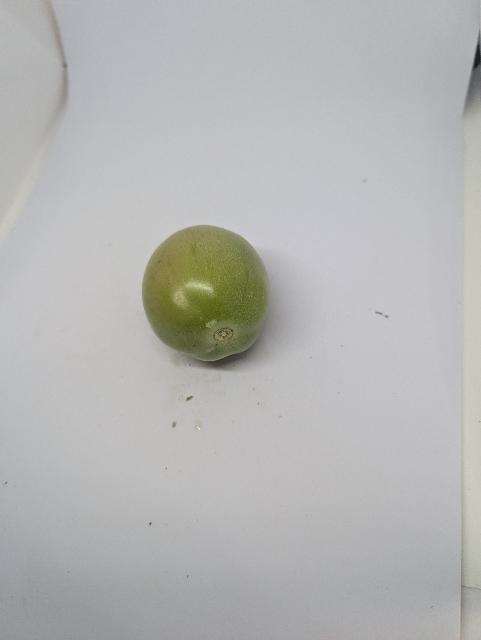green: (139, 222, 277, 364)
